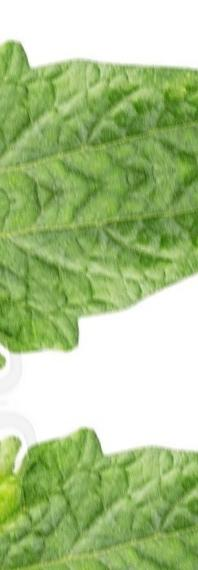Tomato leaf: (0, 137, 198, 403)
